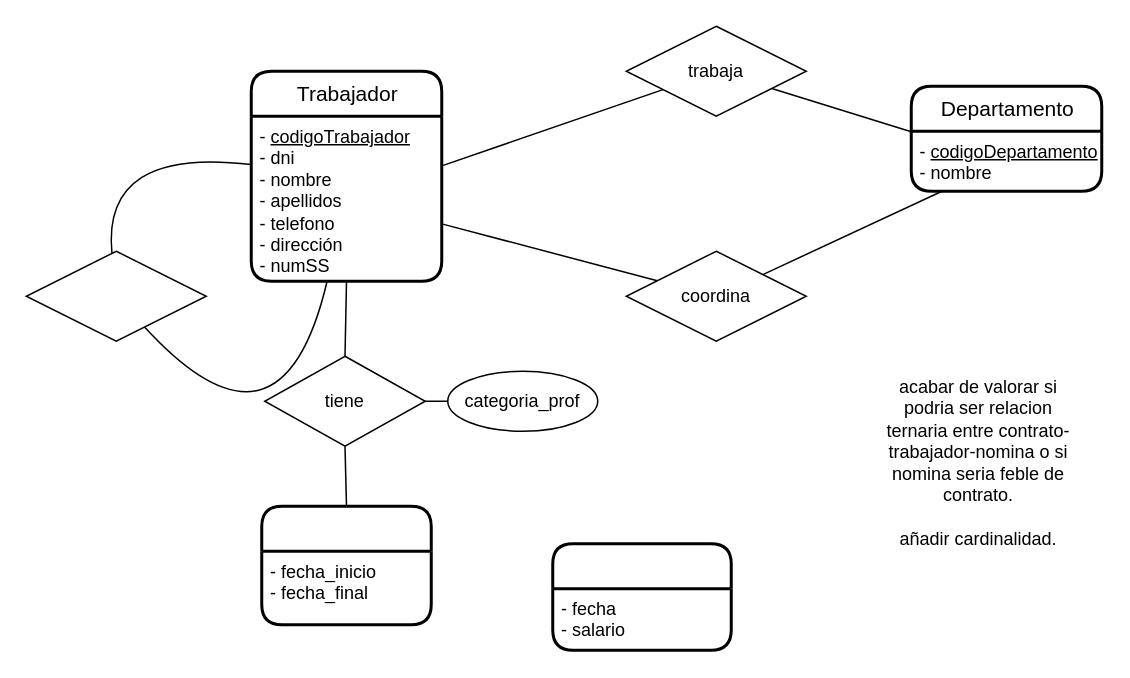
Some shapes in this 1130 by 678 pixel diagram are drawn without their labels. The box of each missing label's shape, as (x1, y1, x2, y2) in pixels:
Contrato: (260, 504, 432, 626)
dirige: (25, 250, 206, 341)
Nomina: (550, 542, 732, 651)
